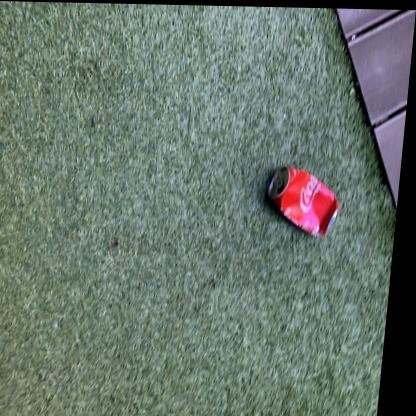trash: (268, 167, 338, 235)
